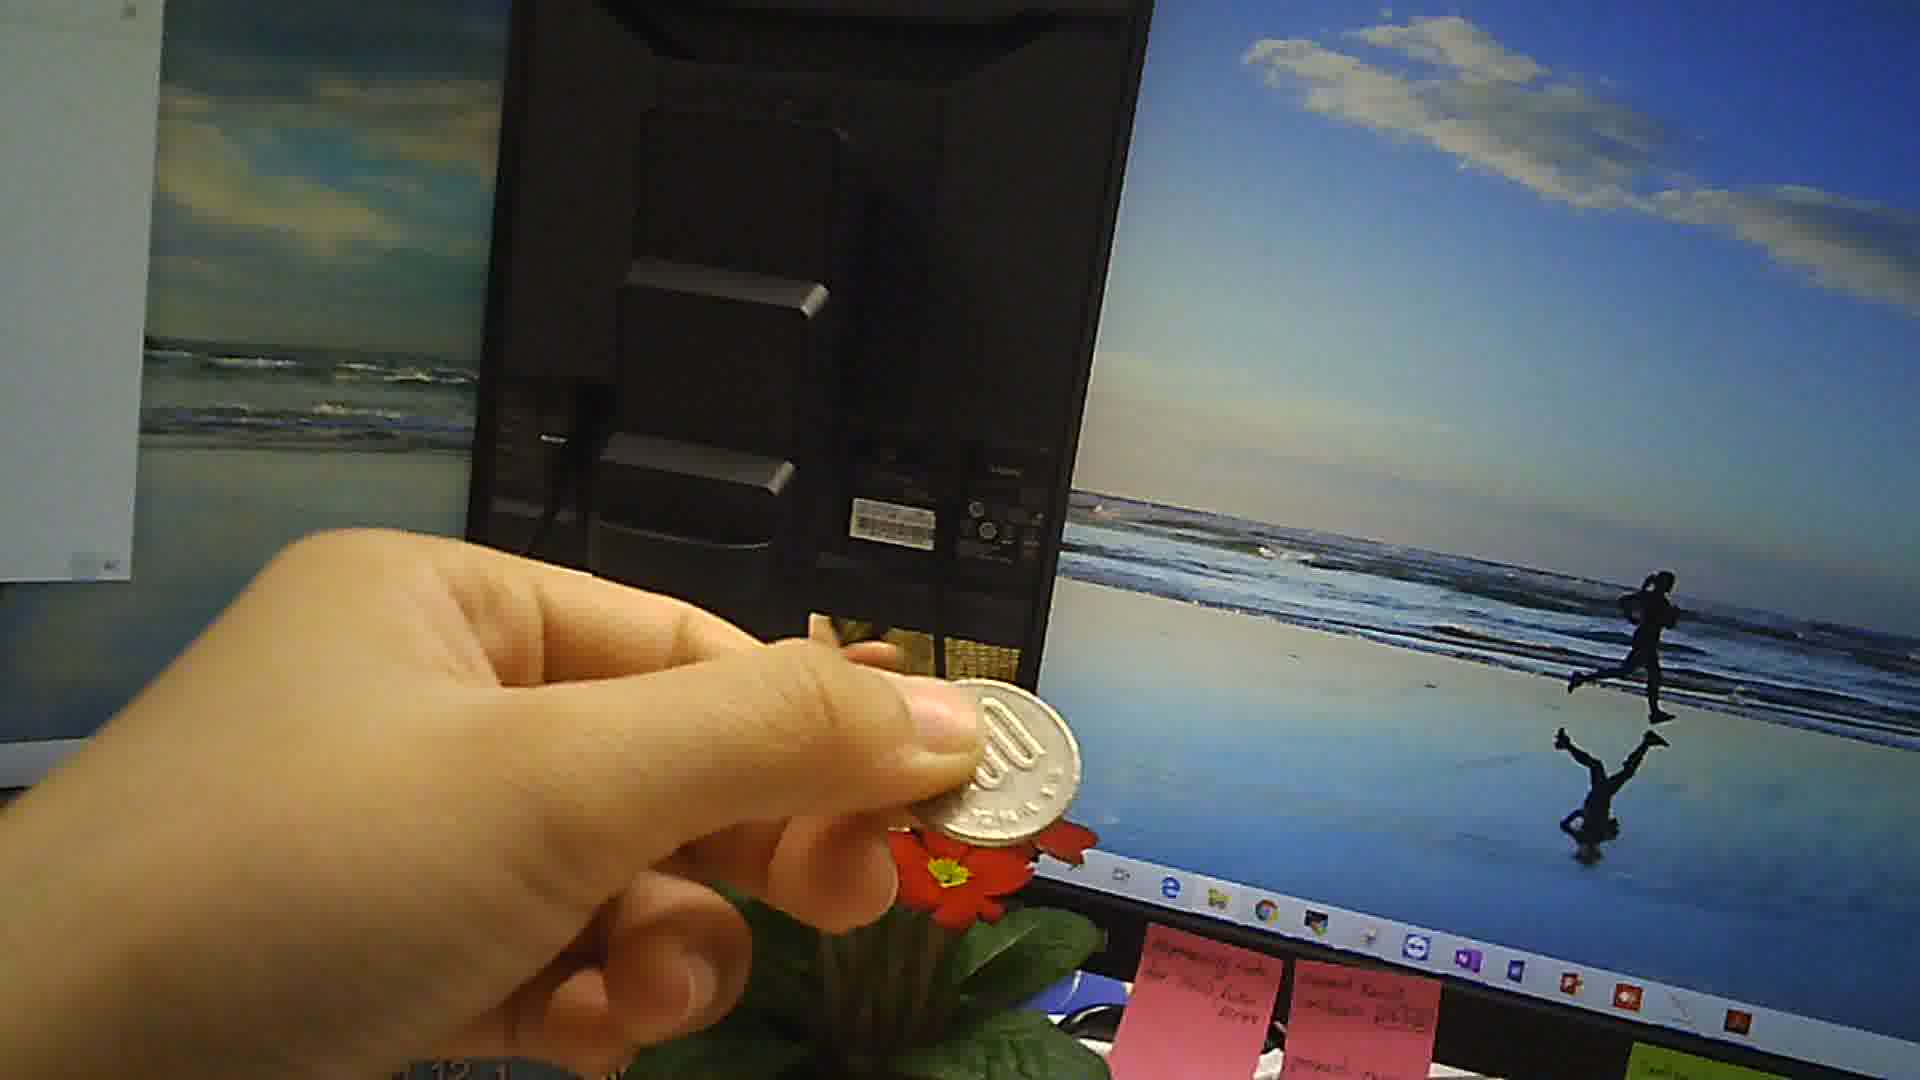100 Yen: (901, 665, 1083, 856)
